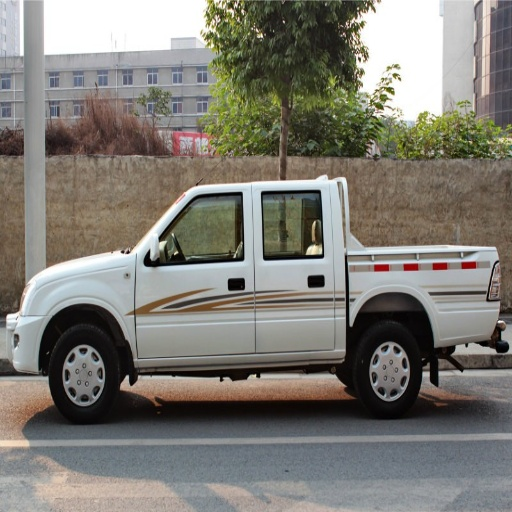trunk: (305, 247, 498, 358)
